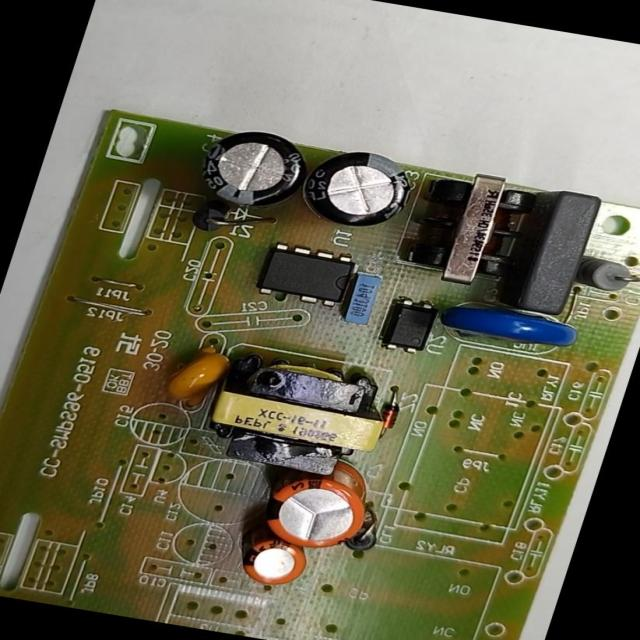Cap1: (243, 448, 395, 566)
Cap2: (231, 534, 317, 594)
Cap3: (288, 139, 427, 238)
Cap4: (176, 121, 320, 226)
MOSFET: (237, 236, 372, 314)
Mov: (423, 290, 596, 367)
Resistor: (568, 251, 640, 307)
Transformer: (183, 346, 408, 486), (398, 165, 556, 298)
